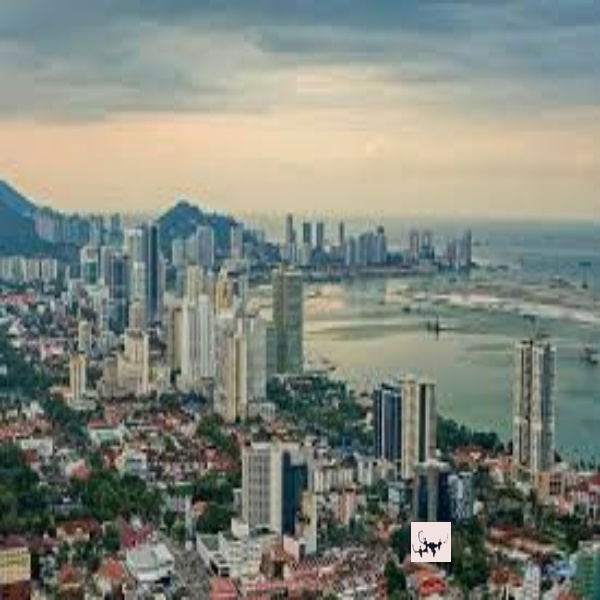drone: (411, 522, 453, 563)
